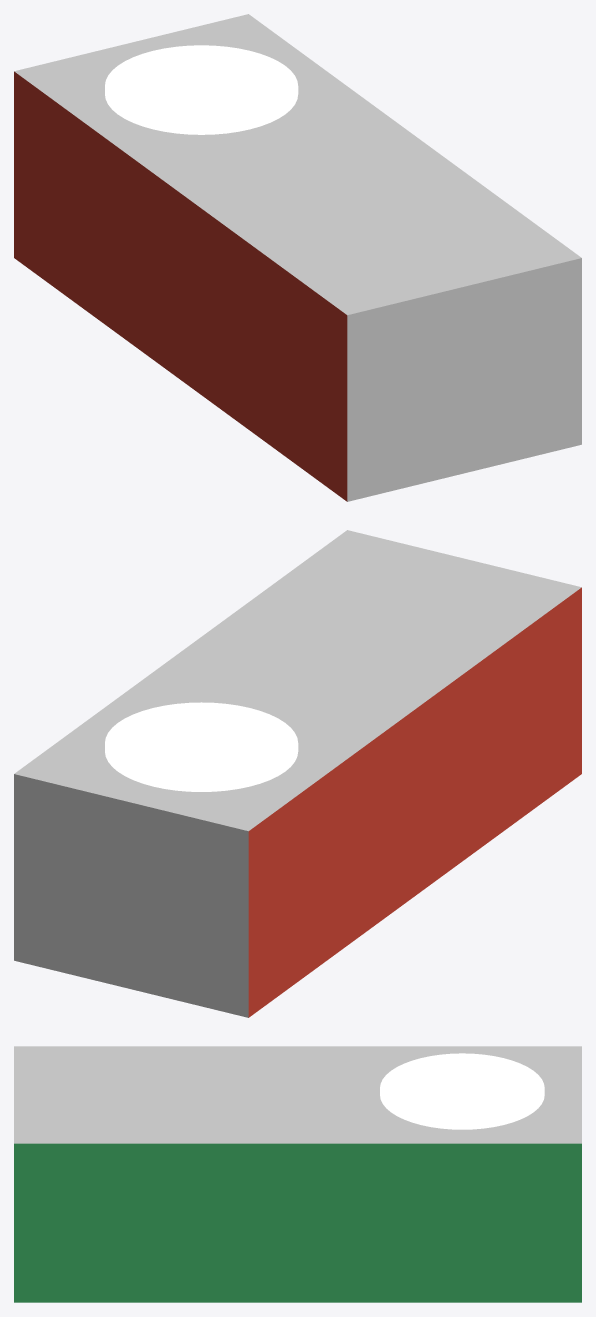
The model's file is cornell_glass.glb.
3 views of the same model, one above another, from view 1: azimuth 30°, elevation 25°; view 2: azimuth 150°, elevation 25°; view 3: azimuth 270°, elevation 25° (orthographic). The views are drawn at different scales.
Parts seen in each view (by area): view 1: Room, Lamp; view 2: Room, Lamp; view 3: Room, Lamp.
Boxes of the visible parts, x1,y1,x2,y2 form: Room: (14,14,581,501); Lamp: (105,45,298,134); Room: (14,530,581,1017); Lamp: (105,702,298,791); Room: (14,1046,581,1302); Lamp: (380,1053,544,1129).
Bounding box in the file's own units: 3.97 × 3.15 × 9.77.
